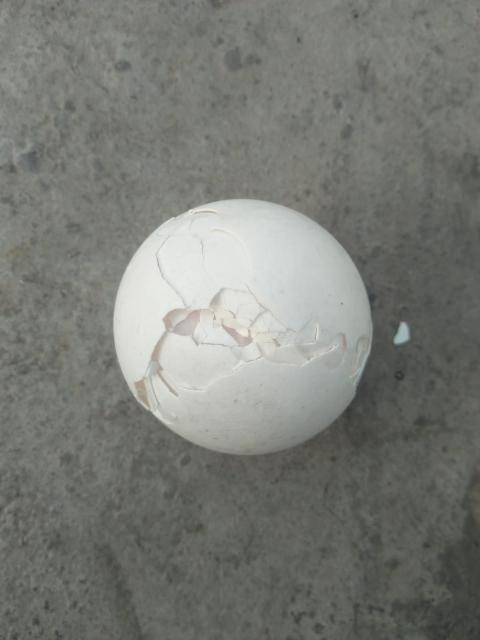Roto: (112, 197, 374, 456)
